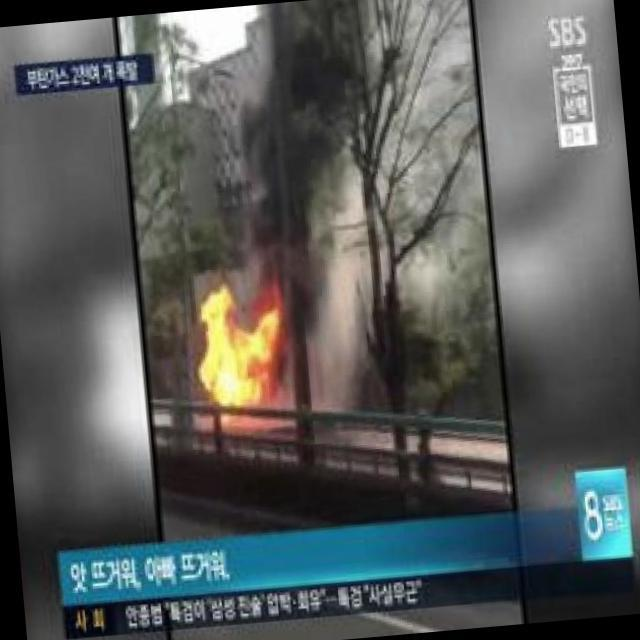Fire: (195, 299, 289, 419)
